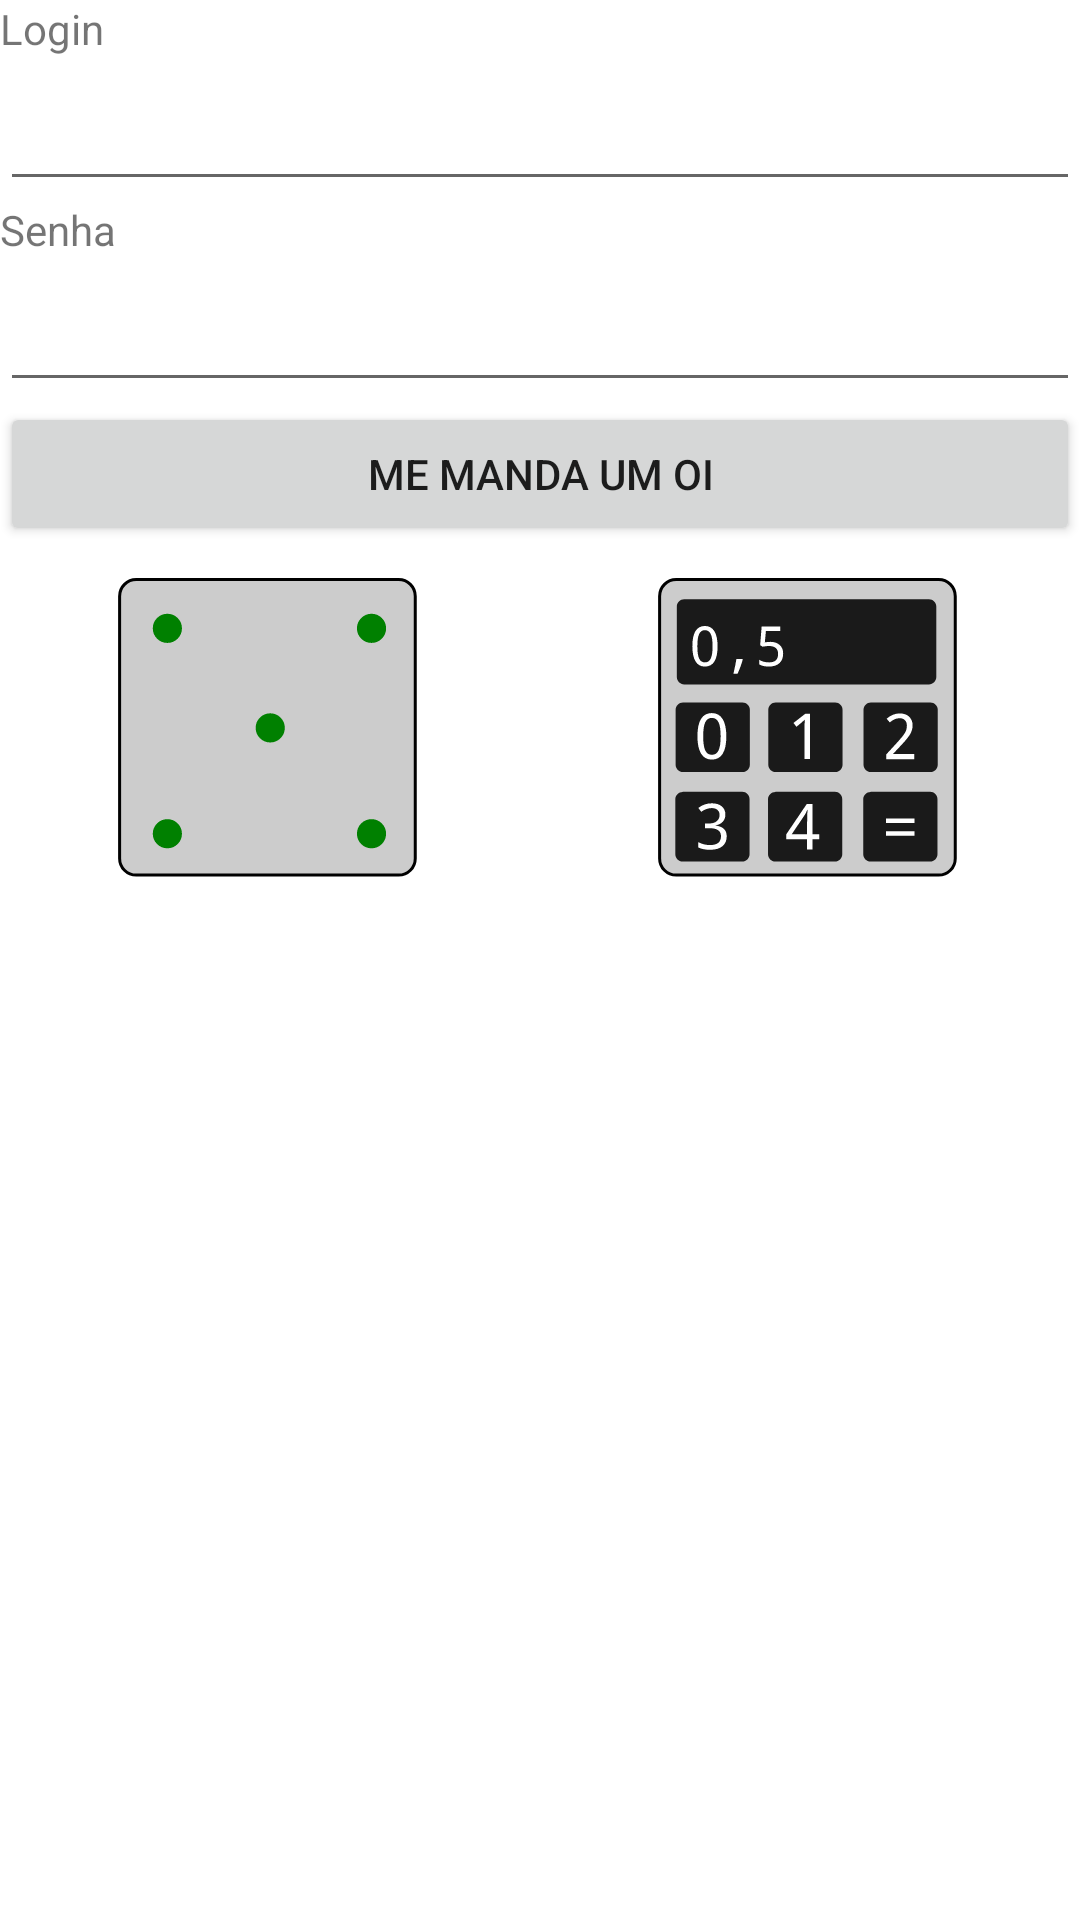

Icons on this 1080 x 1920 Android screen, each with the point to tap as (x,y):
Calculadora: (807,727)
Dado: (267,727)
